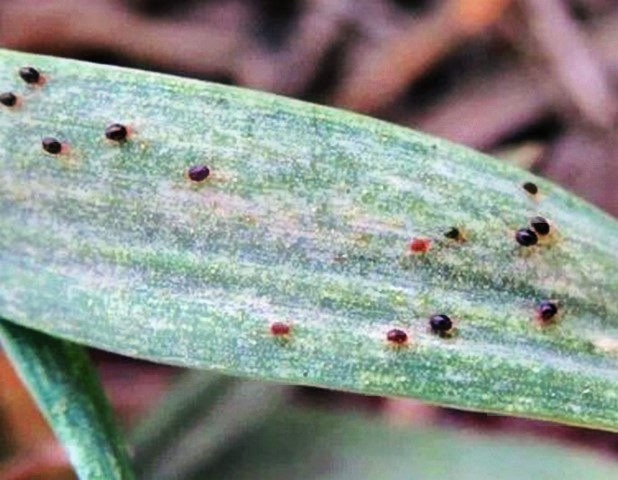Wheat Red Spider: (373, 318, 416, 356)
